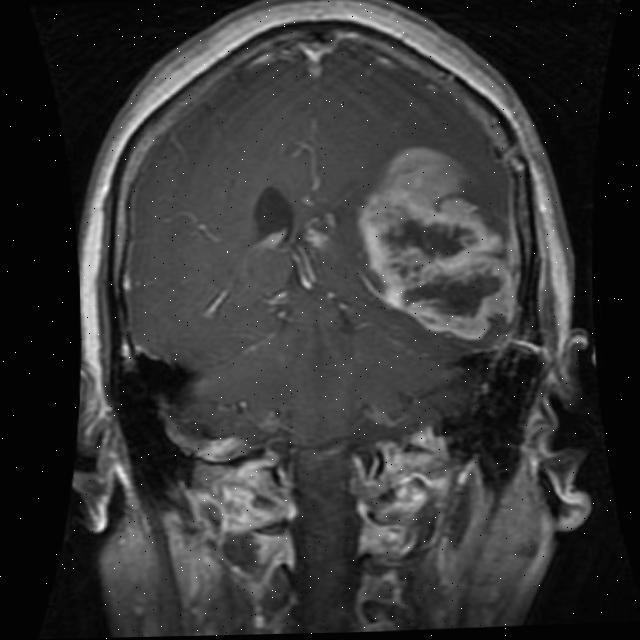Glioma: (353, 139, 521, 345)
